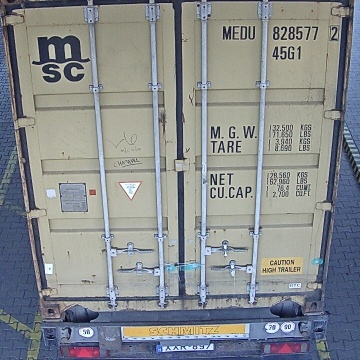serial_id: (223, 26, 339, 40)
